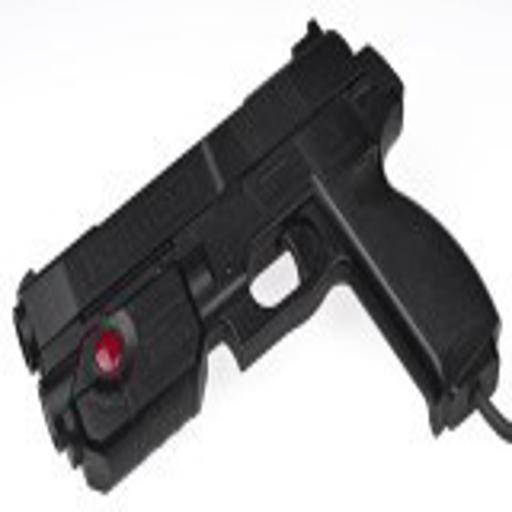Handgun: (11, 3, 504, 502)
